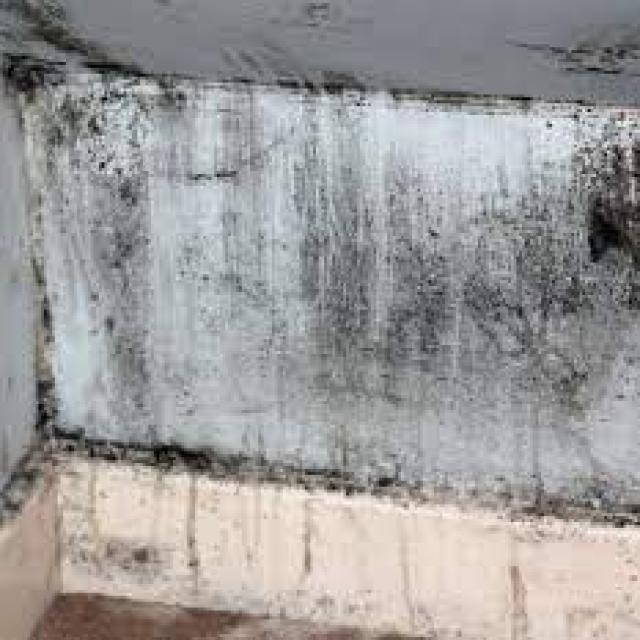dampness: (0, 1, 637, 639)
